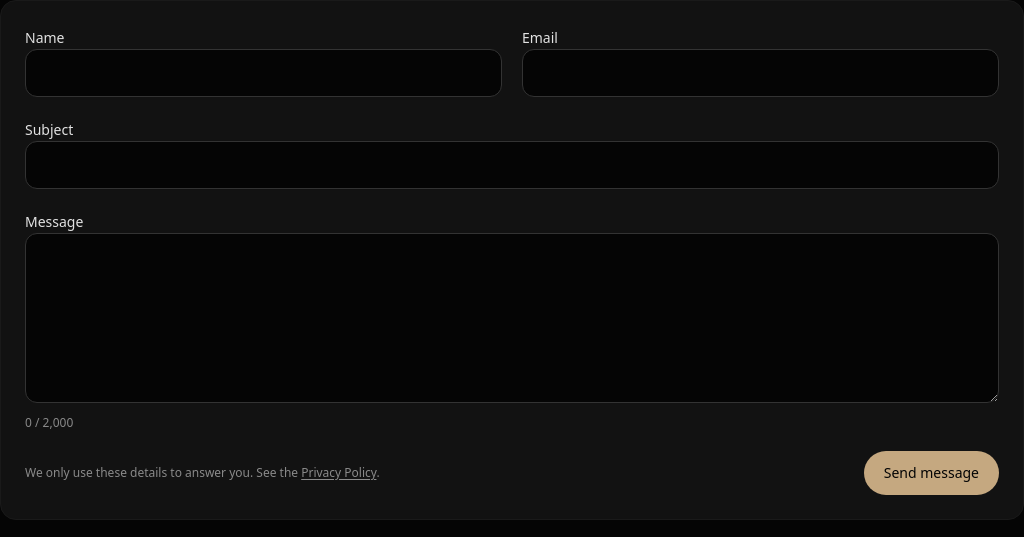
Test: ContactForm › counts characters toward the limit
The width and height of the screenshot is (1024, 537).
Type "Hello" into the text box labelled "Message" at (512, 318), box x1=25 y1=233 x2=999 y2=403
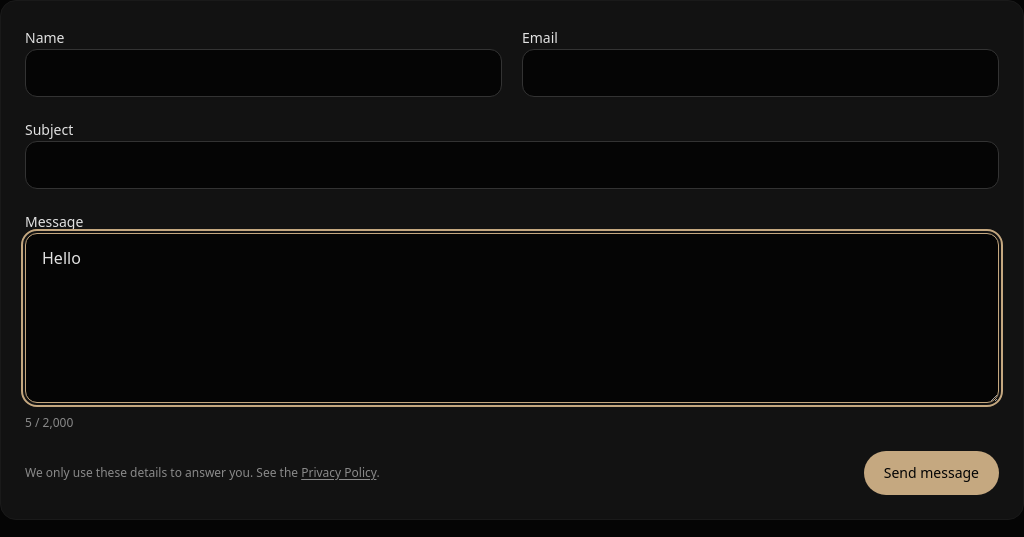
Check: the text "5 / 2,000" is shown, box x1=25 y1=414 x2=73 y2=431
